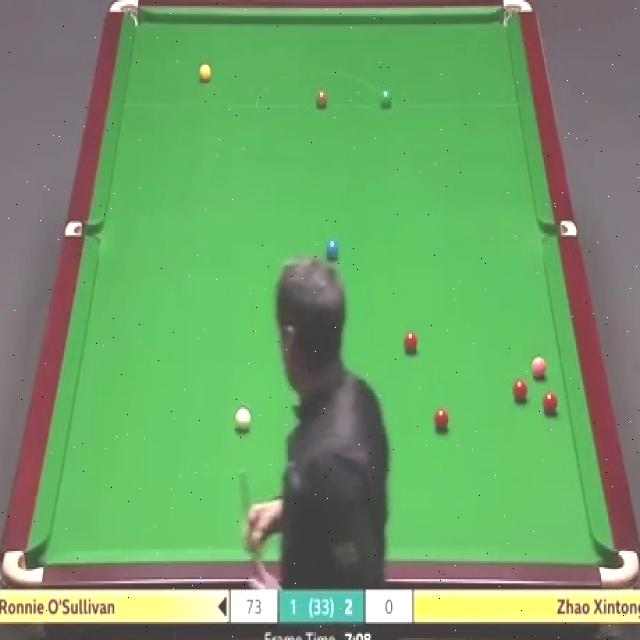blue-ball: (326, 240, 339, 262)
brown-ball: (316, 92, 328, 110)
green-ball: (380, 90, 392, 109)
pink-ball: (532, 355, 548, 381)
red-ball: (432, 408, 450, 434), (404, 329, 419, 354), (542, 394, 558, 415), (513, 381, 528, 402)
white-ball: (235, 407, 254, 435)
yellow-ball: (198, 64, 213, 86)
